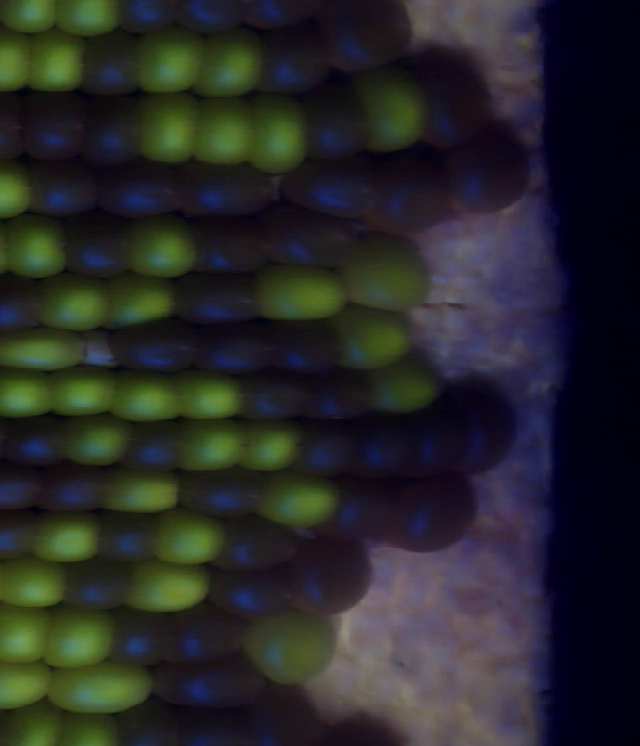fluorescent: (331, 228, 440, 316), (349, 58, 438, 160), (237, 604, 340, 691), (247, 256, 358, 326), (46, 658, 165, 722), (188, 23, 279, 104), (127, 86, 208, 174), (240, 89, 315, 181), (328, 301, 420, 375), (126, 20, 211, 97), (250, 465, 346, 531), (121, 555, 221, 618), (31, 266, 119, 336), (187, 90, 261, 171), (38, 603, 121, 674), (21, 21, 95, 100), (122, 207, 199, 281), (167, 412, 255, 476), (161, 362, 253, 423), (102, 362, 187, 428), (358, 356, 446, 419), (94, 266, 180, 328), (149, 505, 231, 570), (0, 209, 73, 282), (0, 322, 96, 377), (26, 503, 105, 568), (100, 463, 189, 520), (58, 410, 140, 471), (48, 362, 127, 423), (0, 550, 72, 614), (235, 412, 310, 473), (0, 599, 56, 671), (0, 652, 64, 715), (0, 359, 59, 426), (0, 696, 71, 746), (57, 703, 132, 746), (0, 23, 39, 100), (0, 151, 39, 223)
nonfluorescent: (406, 38, 503, 151), (442, 114, 537, 215), (305, 1, 427, 79), (367, 140, 463, 238), (388, 467, 488, 556), (436, 373, 526, 469), (283, 534, 384, 619), (255, 200, 370, 273), (147, 650, 274, 712), (245, 16, 340, 98), (168, 153, 281, 219), (294, 77, 372, 168), (278, 158, 387, 223), (92, 152, 192, 222), (164, 267, 271, 330), (230, 678, 328, 746), (184, 314, 284, 380), (105, 314, 206, 379), (10, 85, 92, 165), (205, 511, 306, 575), (394, 403, 479, 478), (313, 480, 404, 550), (51, 210, 137, 283), (161, 600, 256, 666), (19, 151, 106, 222), (172, 462, 271, 522), (72, 91, 152, 165), (74, 26, 151, 102), (257, 312, 344, 378), (185, 214, 277, 276), (54, 553, 139, 620), (204, 562, 295, 623), (347, 414, 421, 487), (285, 364, 375, 424), (98, 603, 176, 672), (232, 366, 323, 424), (288, 419, 362, 484), (115, 414, 187, 478), (31, 459, 112, 514), (0, 407, 67, 473), (93, 507, 164, 564), (112, 696, 184, 746), (170, 1, 250, 42), (0, 271, 48, 339), (0, 459, 49, 518), (0, 501, 42, 568), (0, 84, 30, 168)
